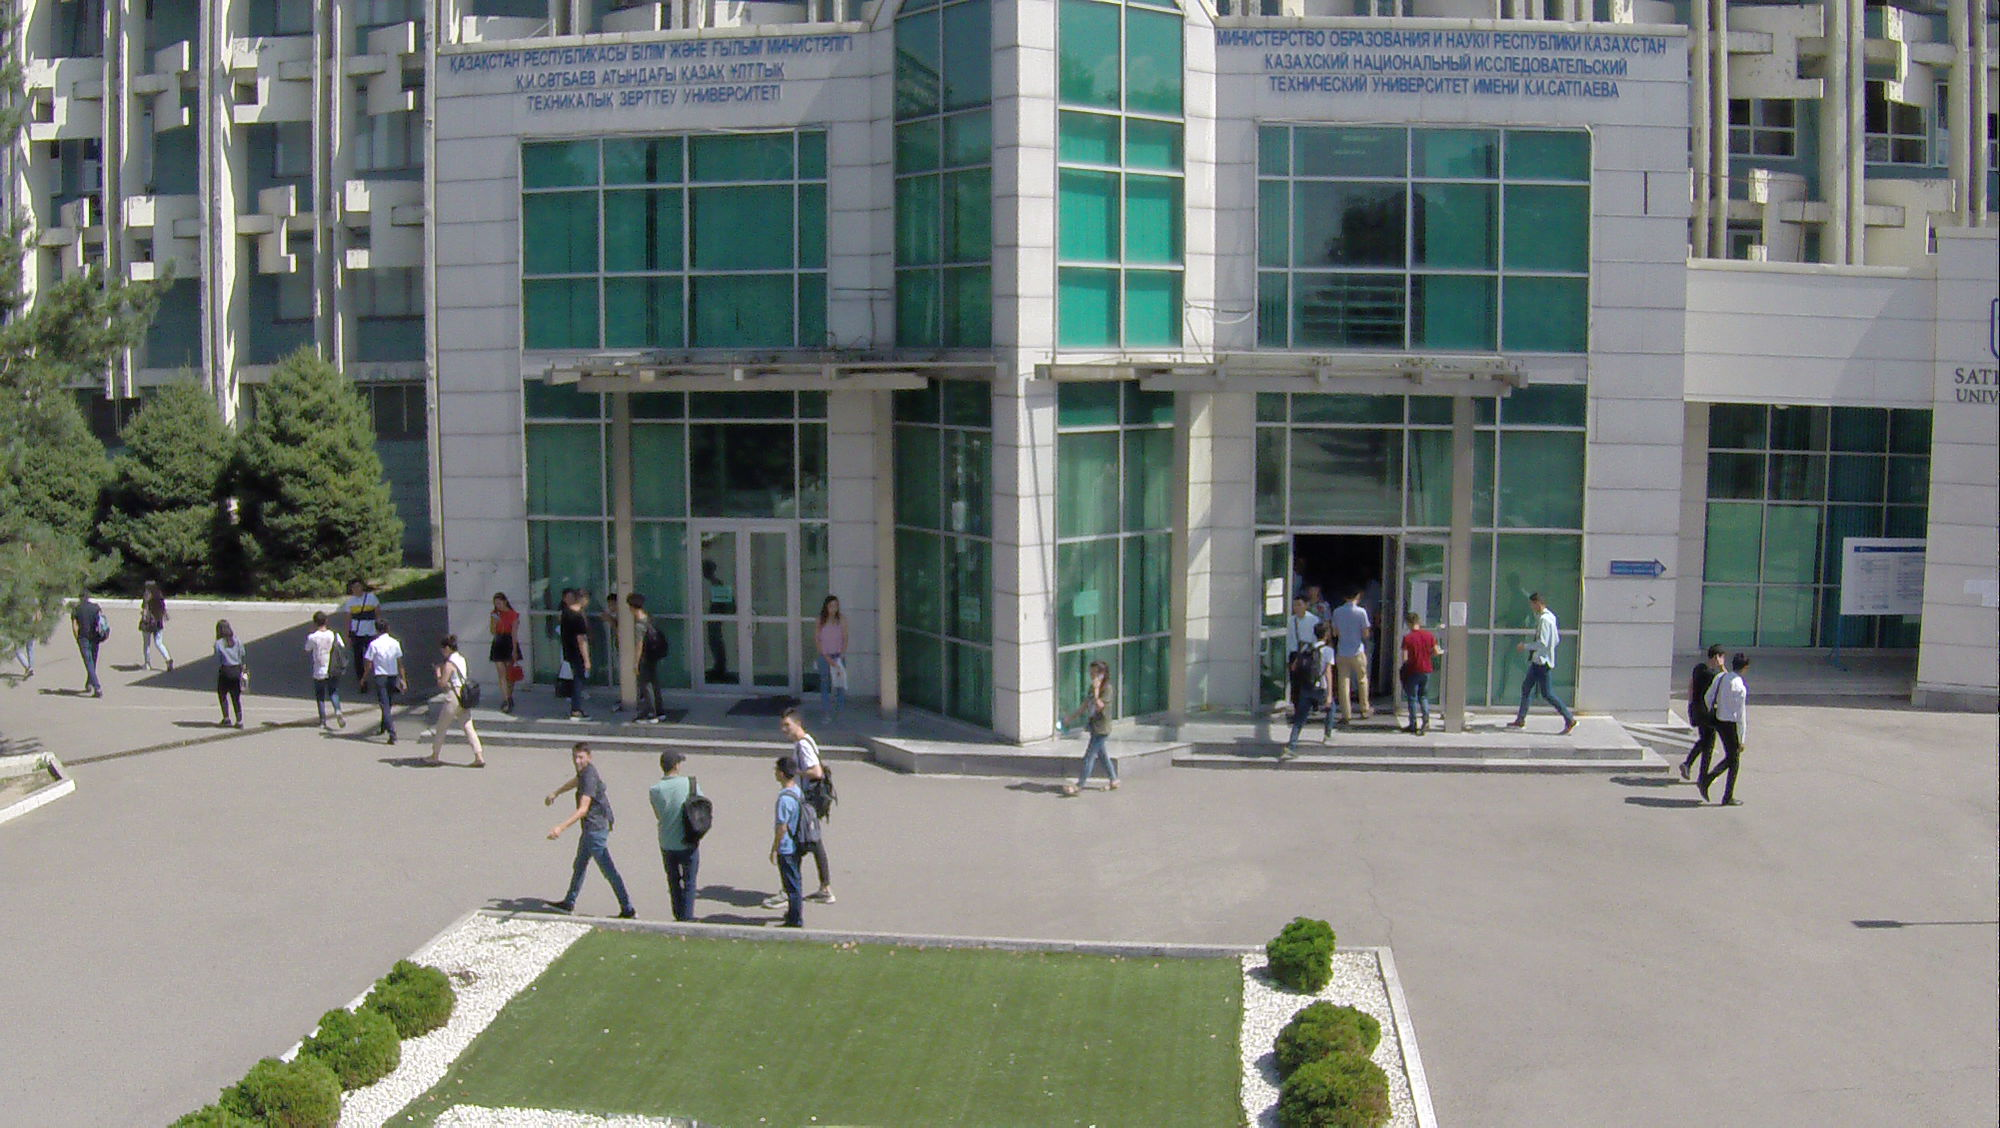person: (547, 734, 628, 951), (777, 701, 843, 905), (646, 745, 713, 929), (1503, 589, 1580, 741), (1699, 651, 1756, 816), (1280, 620, 1343, 764), (763, 756, 812, 938), (425, 633, 486, 773), (1066, 656, 1124, 803), (614, 590, 670, 728), (1682, 636, 1727, 801), (1399, 610, 1449, 745), (366, 615, 409, 757), (303, 611, 349, 743), (61, 584, 110, 703), (1333, 583, 1373, 726), (205, 617, 252, 732), (489, 591, 529, 726), (816, 597, 856, 724), (559, 582, 593, 725), (132, 576, 174, 678), (344, 566, 374, 649), (1282, 593, 1318, 656)
